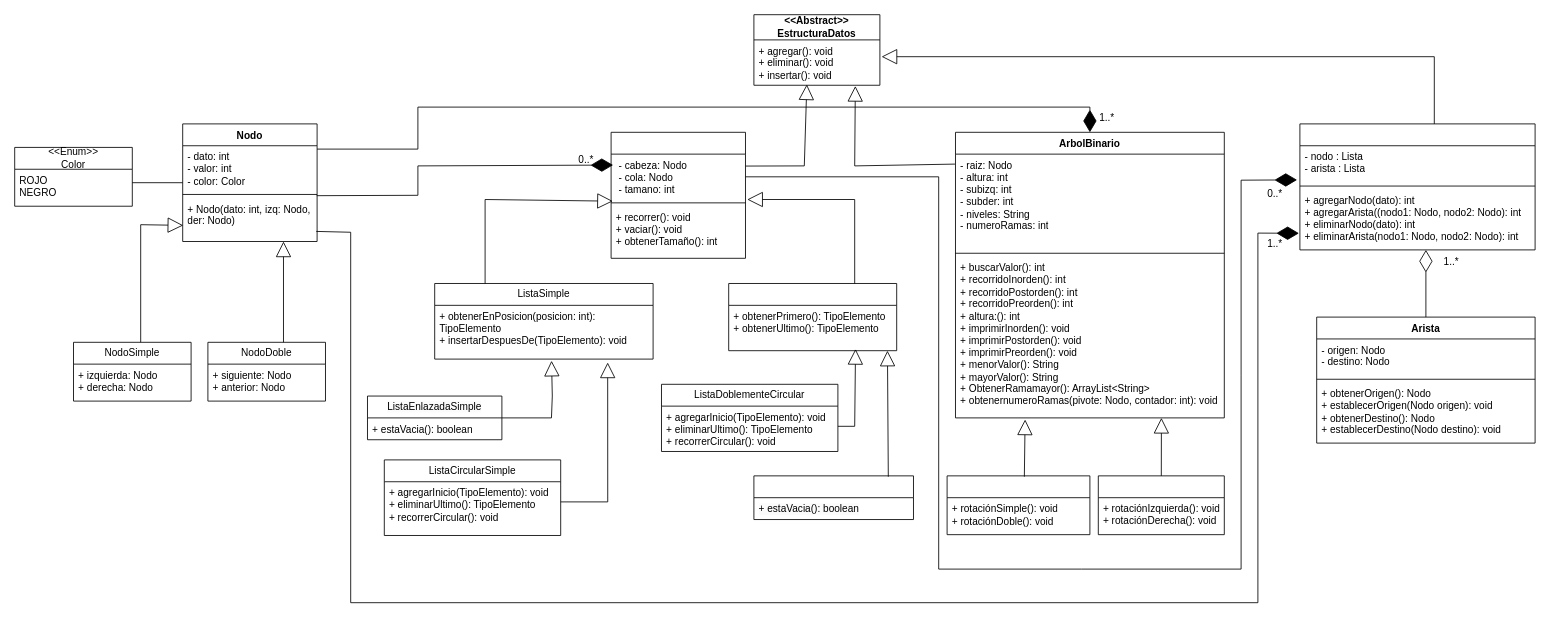
This 1550x639 diagram has some shape labels left out. Here are the shapes that lost their labels. From the top down, the box of each, then its label:
(610, 131, 746, 258): Lista
(1299, 123, 1535, 250): Grafo
(728, 283, 897, 351): ListaDoblemente
(753, 475, 914, 520): ListaDoblementeEnlazada
(946, 475, 1090, 535): ArbolAVL
(1097, 475, 1224, 535): ArbolRojoNegro
